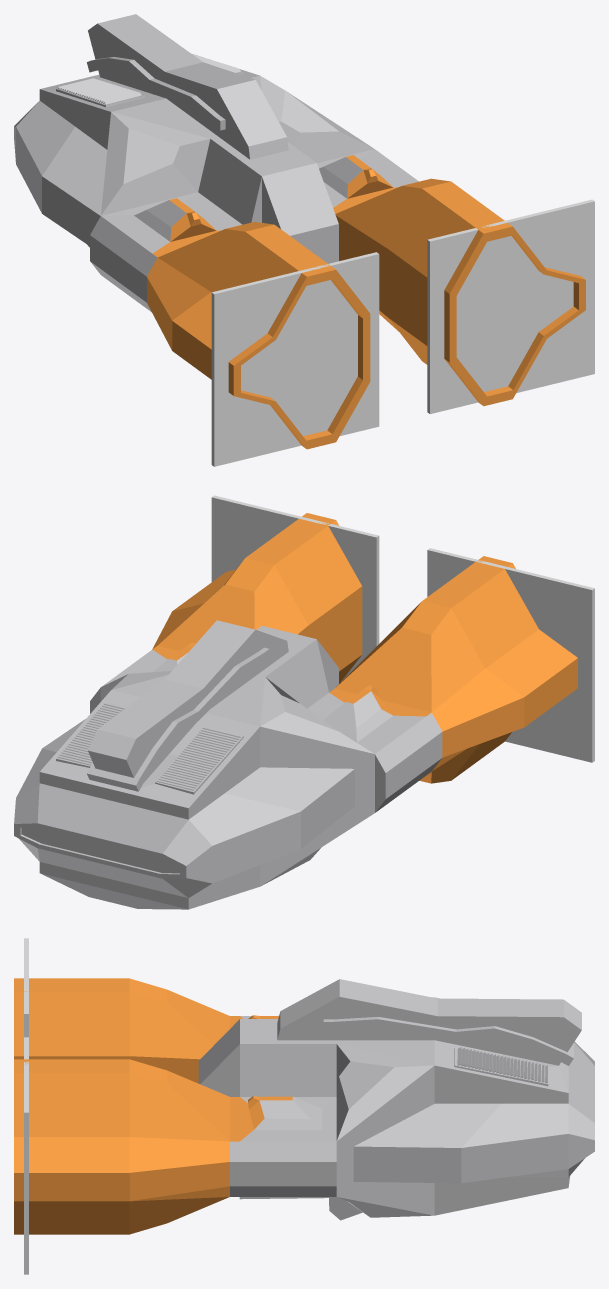
The model's file is eng.body.split.glb.
The picture shows the model from 3 angles, top to bottom: view 1: azimuth 30°, elevation 25°; view 2: azimuth 150°, elevation 25°; view 3: azimuth 270°, elevation 25°; orthographic projection. The views are drawn at different scales.
Visible parts, largest first — view 1: eng.body.split, LeftThruster, RightThruster; view 2: eng.body.split, LeftThruster, RightThruster; view 3: eng.body.split, RightThruster, LeftThruster.
Part boxes in pixels (x1=…): eng.body.split: x1=14, y1=14, x2=585, y2=449; LeftThruster: x1=211, y1=252, x2=379, y2=466; RightThruster: x1=427, y1=199, x2=594, y2=413; eng.body.split: x1=14, y1=513, x2=577, y2=909; LeftThruster: x1=427, y1=548, x2=594, y2=762; RightThruster: x1=211, y1=495, x2=379, y2=681; eng.body.split: x1=14, y1=978, x2=594, y2=1234; RightThruster: x1=24, y1=1037, x2=28, y2=1274; LeftThruster: x1=24, y1=938, x2=28, y2=1037.
Bounding box in the file's own units: 3.33 × 1.97 × 4.69.
